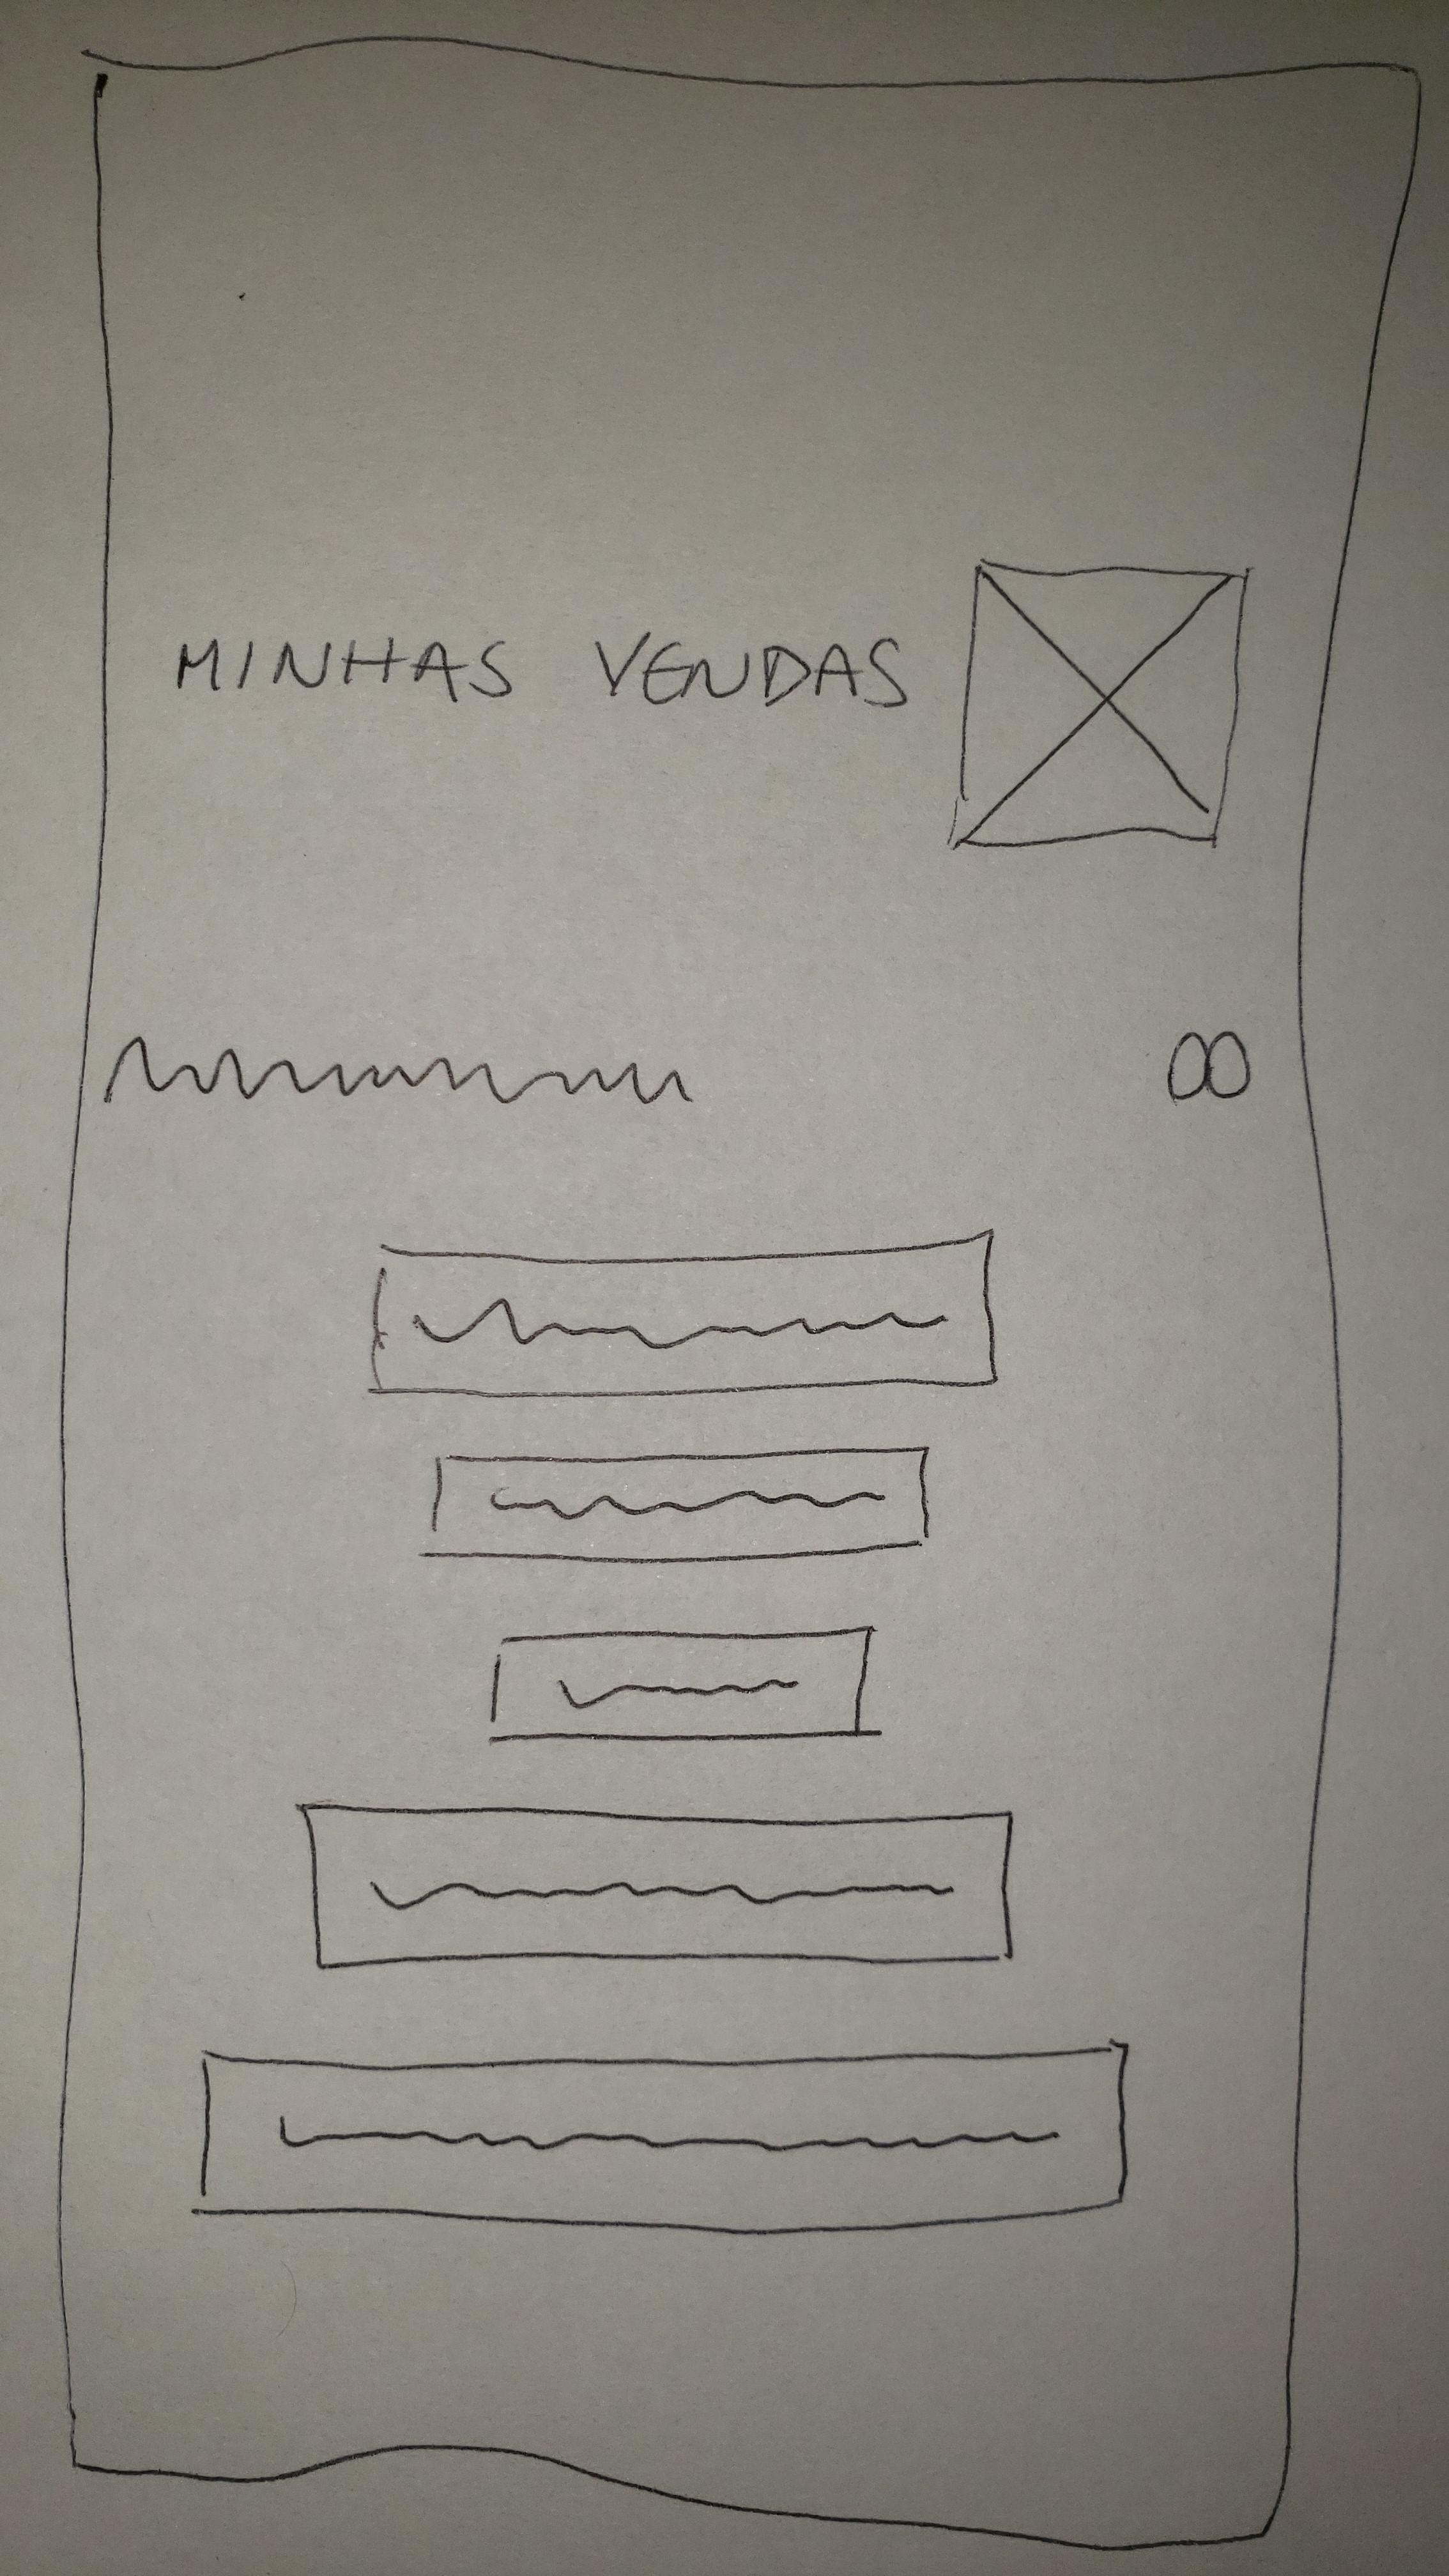Button: (195, 2043, 1131, 2233), (299, 1801, 1014, 1967), (368, 1228, 998, 1403), (419, 1445, 931, 1560), (488, 1628, 881, 1743)
Image: (945, 559, 1253, 856)
Label: (177, 626, 911, 709), (103, 1033, 697, 1106), (1159, 1024, 1254, 1109)
Screen: (58, 32, 1421, 2549)
